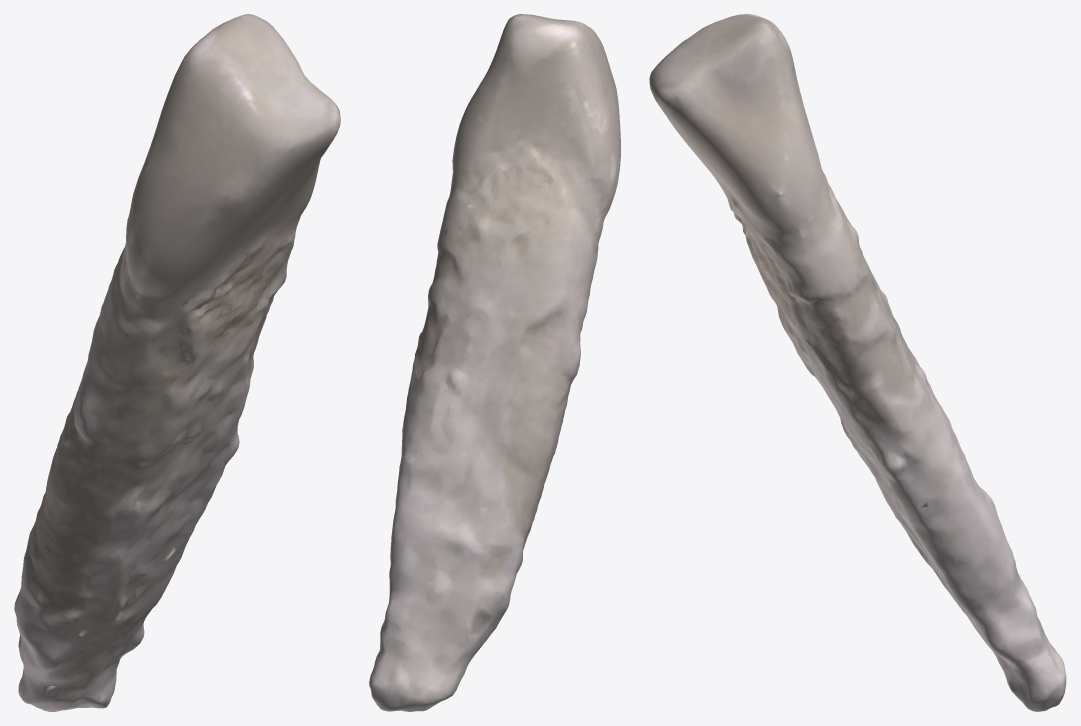
3 renders of one model, left to right at view 1: azimuth 30°, elevation 25°; view 2: azimuth 150°, elevation 25°; view 3: azimuth 270°, elevation 25°, orthographic. The views are drawn at different scales.
Visible parts, largest first — view 1: I1_li_unten_Hund_2.001; view 2: I1_li_unten_Hund_2.001; view 3: I1_li_unten_Hund_2.001.
Boxes of the visible parts, box(x1,y1,x2,y2) form: I1_li_unten_Hund_2.001: box(14, 14, 340, 711); I1_li_unten_Hund_2.001: box(369, 14, 620, 711); I1_li_unten_Hund_2.001: box(649, 14, 1066, 711).
Size of the model in its own units: 397 by 1561 by 869.
1 material, 1 textured.
